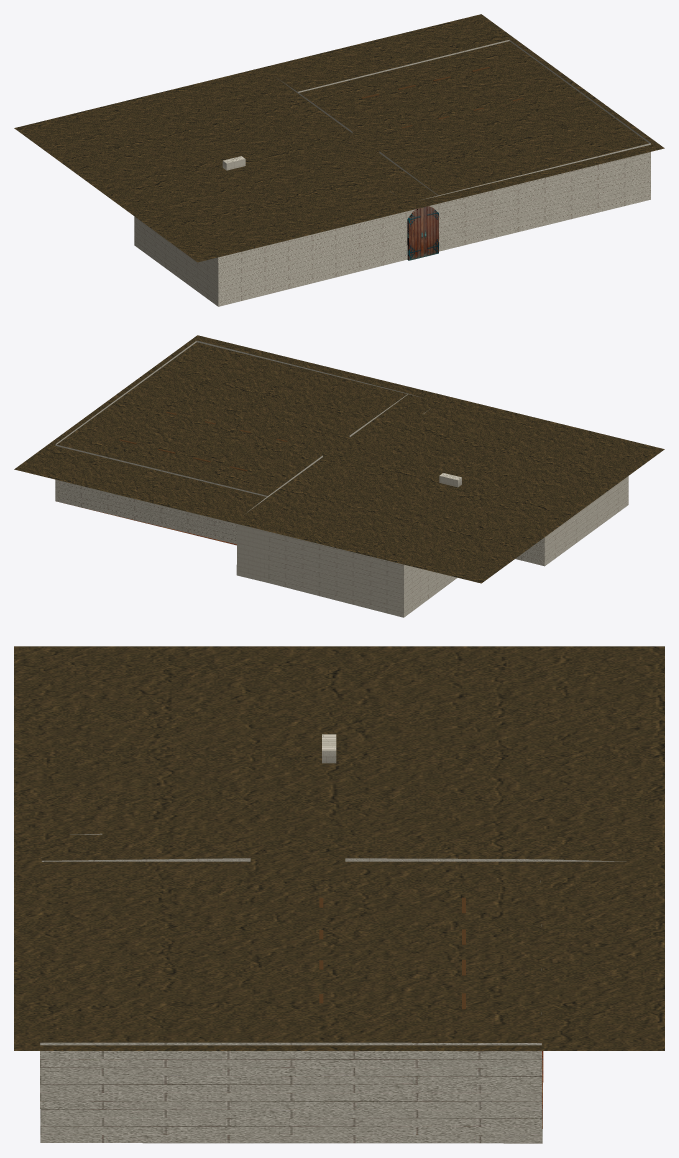
The model's file is library interior.fbx.
The picture shows the model from 3 angles, top to bottom: view 1: azimuth 30°, elevation 25°; view 2: azimuth 150°, elevation 25°; view 3: azimuth 270°, elevation 25°; orthographic projection. The views are drawn at different scales.
Parts seen in each view (by area): view 1: pPlane13, polySurface231, polySurface234; view 2: pPlane13, polySurface231; view 3: pPlane13, polySurface231.
Part boxes in pixels (<box>): pPlane13: <box>14,14,664,262</box>; polySurface231: <box>134,39,650,306</box>; polySurface234: <box>407,206,438,260</box>; pPlane13: <box>14,335,664,583</box>; polySurface231: <box>55,340,628,617</box>; pPlane13: <box>14,646,664,1050</box>; polySurface231: <box>40,833,626,1143</box>.
Size of the model in its own units: 126 by 16.64 by 85.62.
